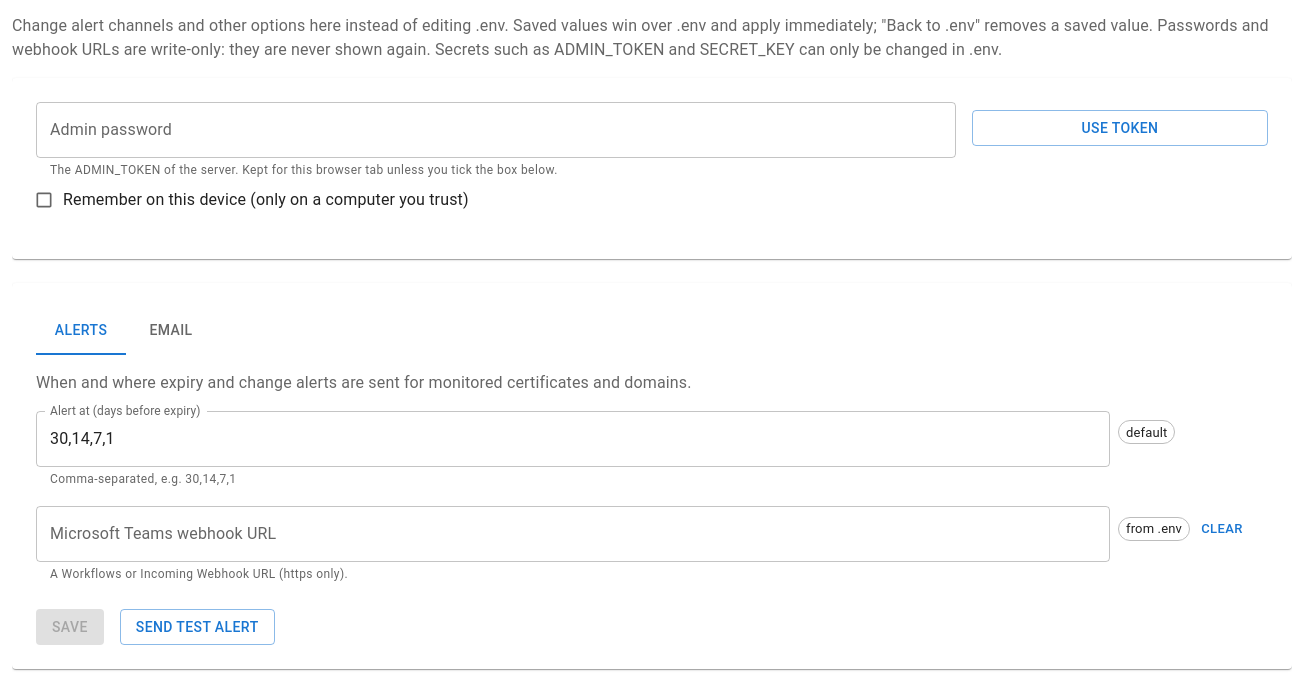
Test case: clears a secret and sends a test alert
This screenshot has width=1292, height=680.
Click the button "Clear".
click(1222, 529)  # box [1190, 514, 1254, 544]
(page scrolled)
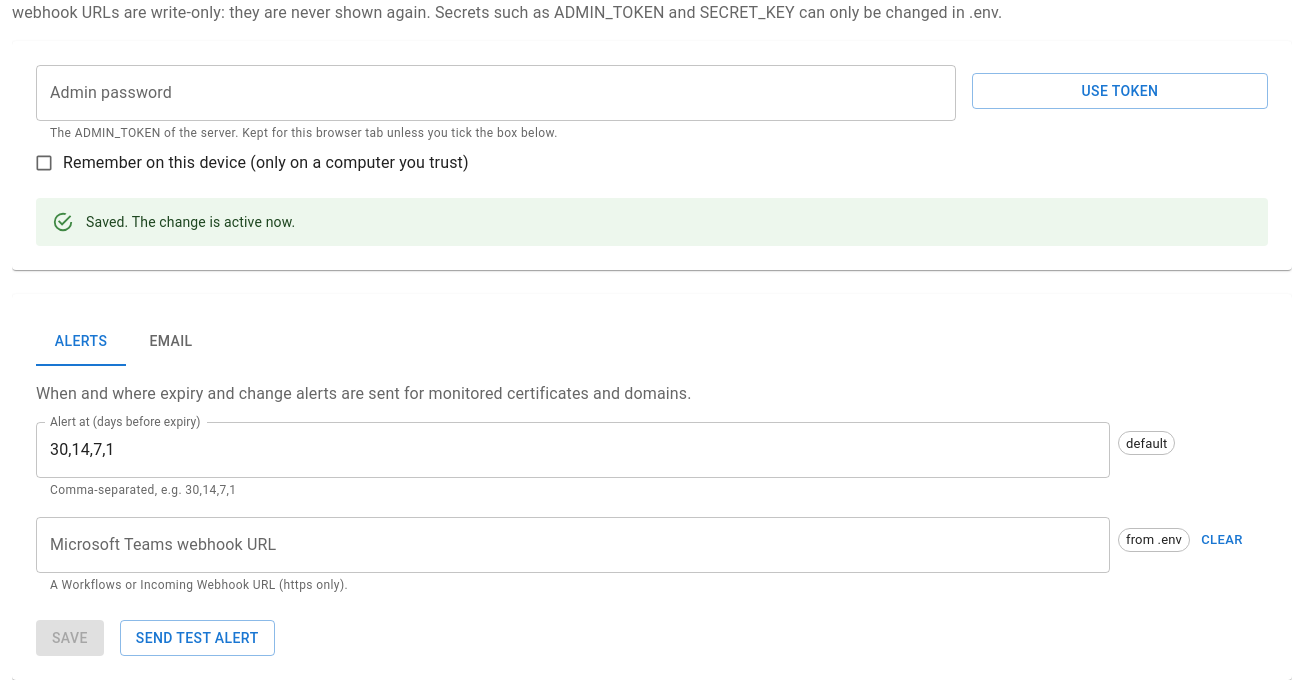
Click the button "Send test alert".
click(197, 638)  # box [120, 620, 274, 656]
(page scrolled)
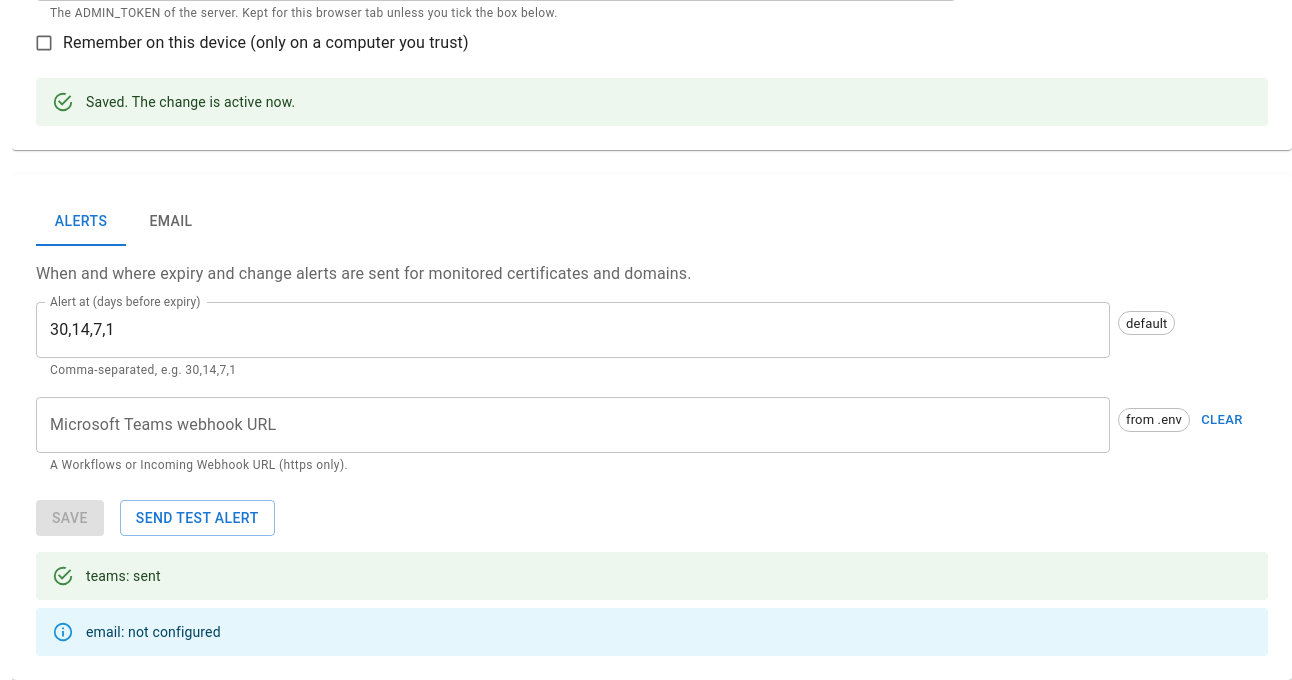
Expected: the text "teams: sent" is shown, [86, 568, 161, 584]
Expected: the text "email: not configured" is shown, [86, 624, 221, 640]
